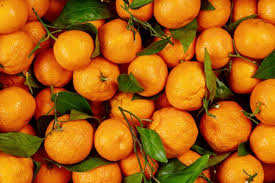orange: (42, 110, 94, 162), (142, 110, 199, 156), (169, 58, 217, 111), (200, 101, 250, 151), (99, 16, 142, 62), (51, 25, 95, 68), (74, 60, 121, 99), (128, 51, 167, 97), (94, 118, 133, 161)
